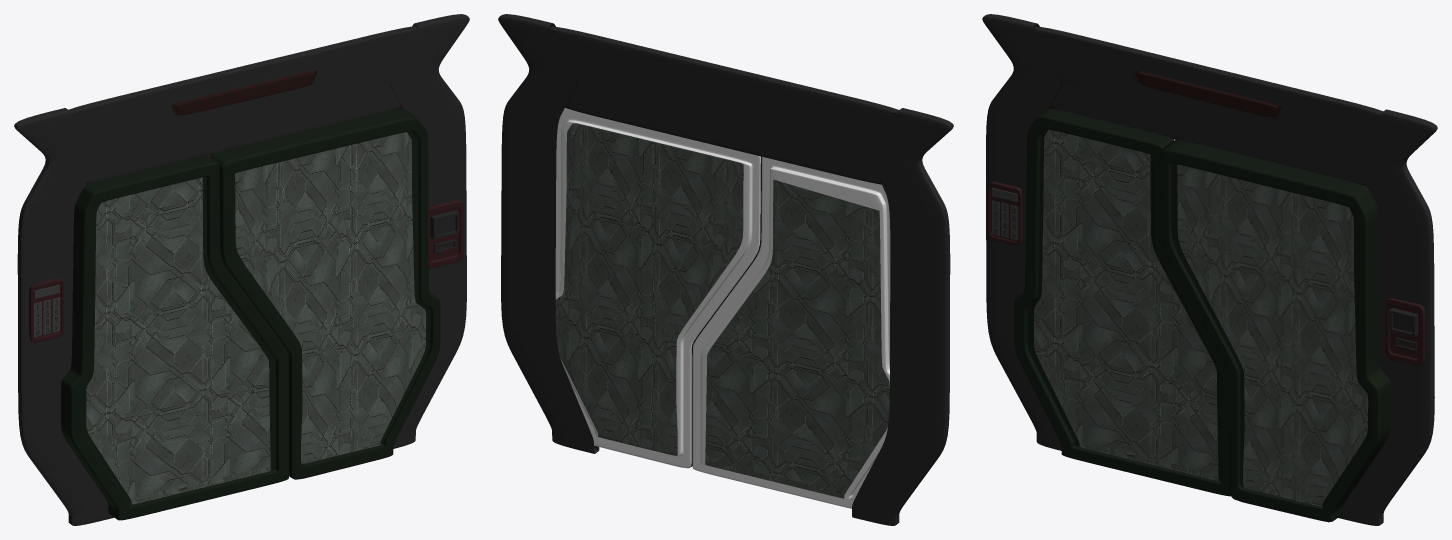
The model's file is DOOR (1).fbx.
The picture shows the model from 3 angles, left to right: view 1: azimuth 30°, elevation 25°; view 2: azimuth 150°, elevation 25°; view 3: azimuth 330°, elevation 25°; orthographic projection.
Parts seen in each view (by area): view 1: Cube, Cube.001, Cube.002, Cube.003, Cube.007, Cube.004, Cube.005, Cube.009; view 2: Cube.001, Cube, Cube.002, Cube.003; view 3: Cube.001, Cube, Cube.002, Cube.003, Cube.007, Cube.004, Cube.005, Cube.009.
Boxes of the visible parts, box(x1,y1,x2,y2) form: Cube: box(61, 155, 288, 520); Cube.001: box(209, 108, 440, 479); Cube.002: box(14, 14, 469, 525); Cube.003: box(68, 26, 418, 183); Cube.007: box(428, 200, 463, 268); Cube.004: box(29, 278, 63, 343); Cube.005: box(34, 297, 60, 337); Cube.009: box(430, 210, 459, 238); Cube.001: box(555, 108, 761, 468); Cube: box(692, 156, 890, 508); Cube.002: box(498, 14, 953, 525); Cube.003: box(549, 26, 898, 184); Cube.001: box(1161, 140, 1391, 522); Cube: box(1014, 108, 1230, 496); Cube.002: box(982, 14, 1437, 525); Cube.003: box(1033, 26, 1382, 185); Cube.007: box(1385, 298, 1425, 366); Cube.004: box(987, 181, 1022, 246); Cube.005: box(992, 200, 1018, 240); Cube.009: box(1389, 308, 1418, 336).
Bounding box in the file's own units: 233 × 206 × 16.11.
